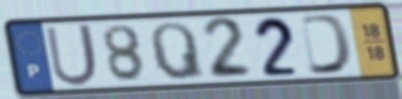2: (252, 12, 308, 82), (199, 15, 255, 84)
8: (100, 23, 147, 83)
D: (297, 12, 355, 77)
Q: (147, 19, 208, 82)
U: (42, 21, 101, 89)
